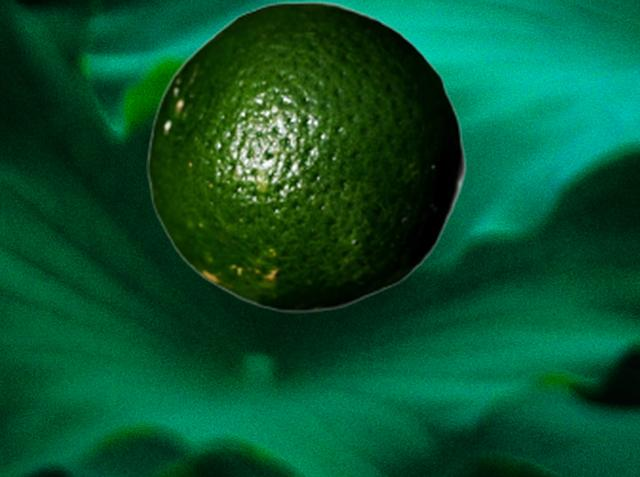calamansi: (146, 0, 466, 312)
